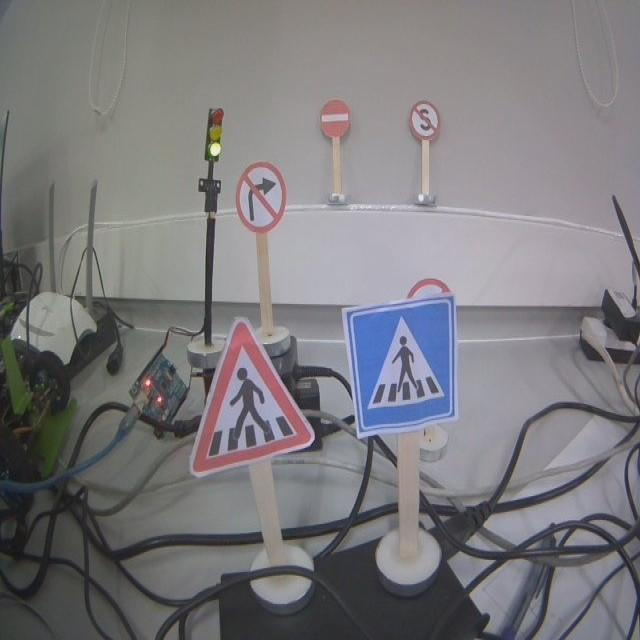Dilarang Belok Kanan: (235, 162, 286, 234)
Dilarang Masuk: (320, 100, 350, 137)
Lampu Hijau: (204, 107, 223, 161)
Rambu Berhenti: (410, 101, 440, 140)
Rambu Penyebrangan: (190, 320, 312, 473), (343, 293, 458, 435)
